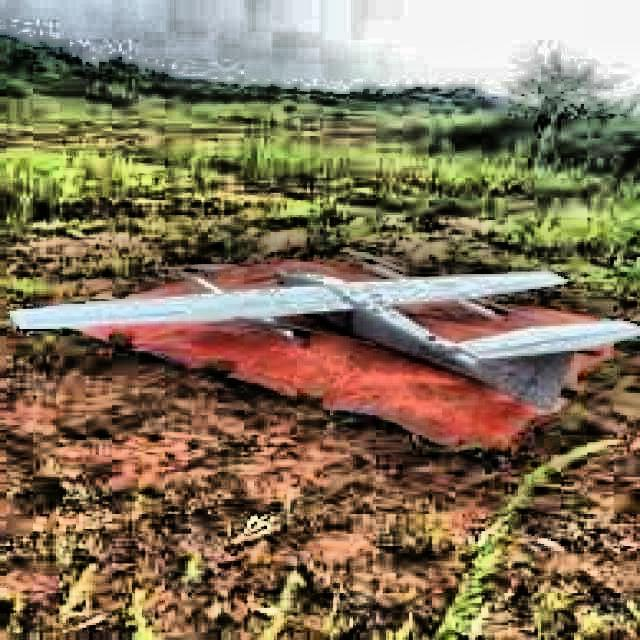iha: (5, 254, 640, 422)
